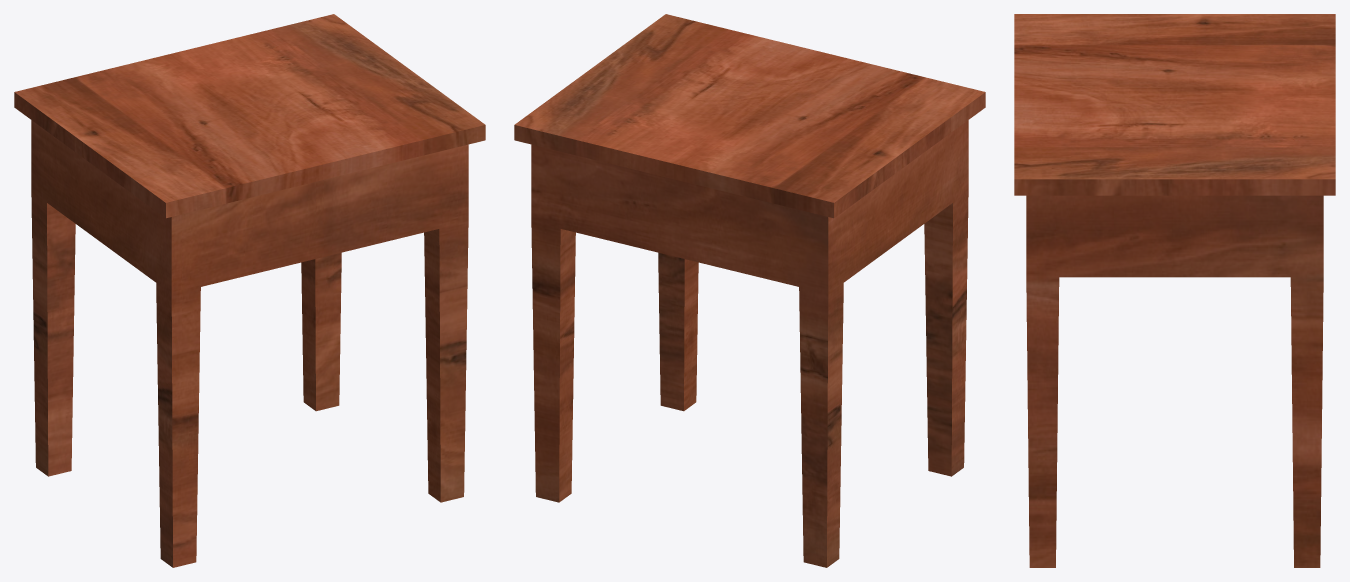
The model's file is shortTable_SA.fbx.
3 views of the same model, side by side, from view 1: azimuth 30°, elevation 25°; view 2: azimuth 150°, elevation 25°; view 3: azimuth 270°, elevation 25° (orthographic). The views are drawn at different scales.
Parts seen in each view (by area): view 1: shortTable; view 2: shortTable; view 3: shortTable.
Part boxes in pixels (x1,y1,x2,y2): shortTable: (14,14,485,567); shortTable: (514,14,985,567); shortTable: (1014,14,1335,567).
Bounding box in the file's own units: 2.19 × 2.45 × 1.8.
1 material, 1 textured.
